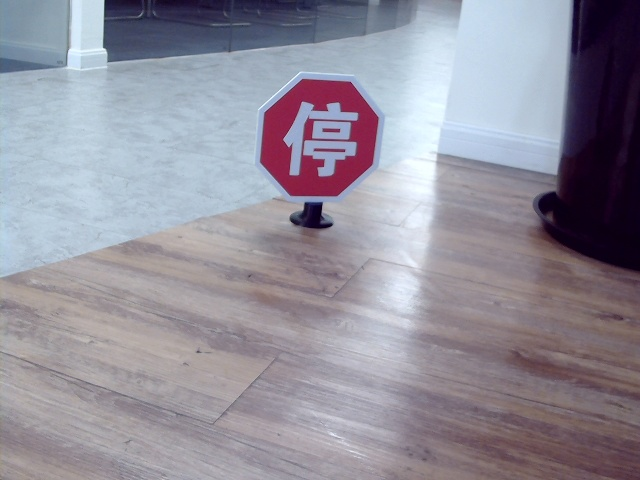stop: (285, 98, 355, 177)
